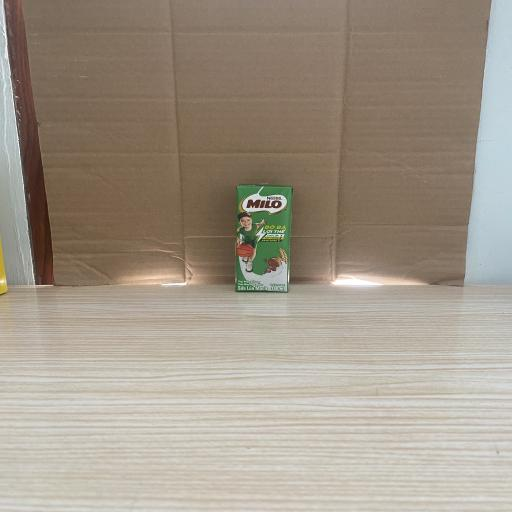milo: (235, 184, 293, 292)
